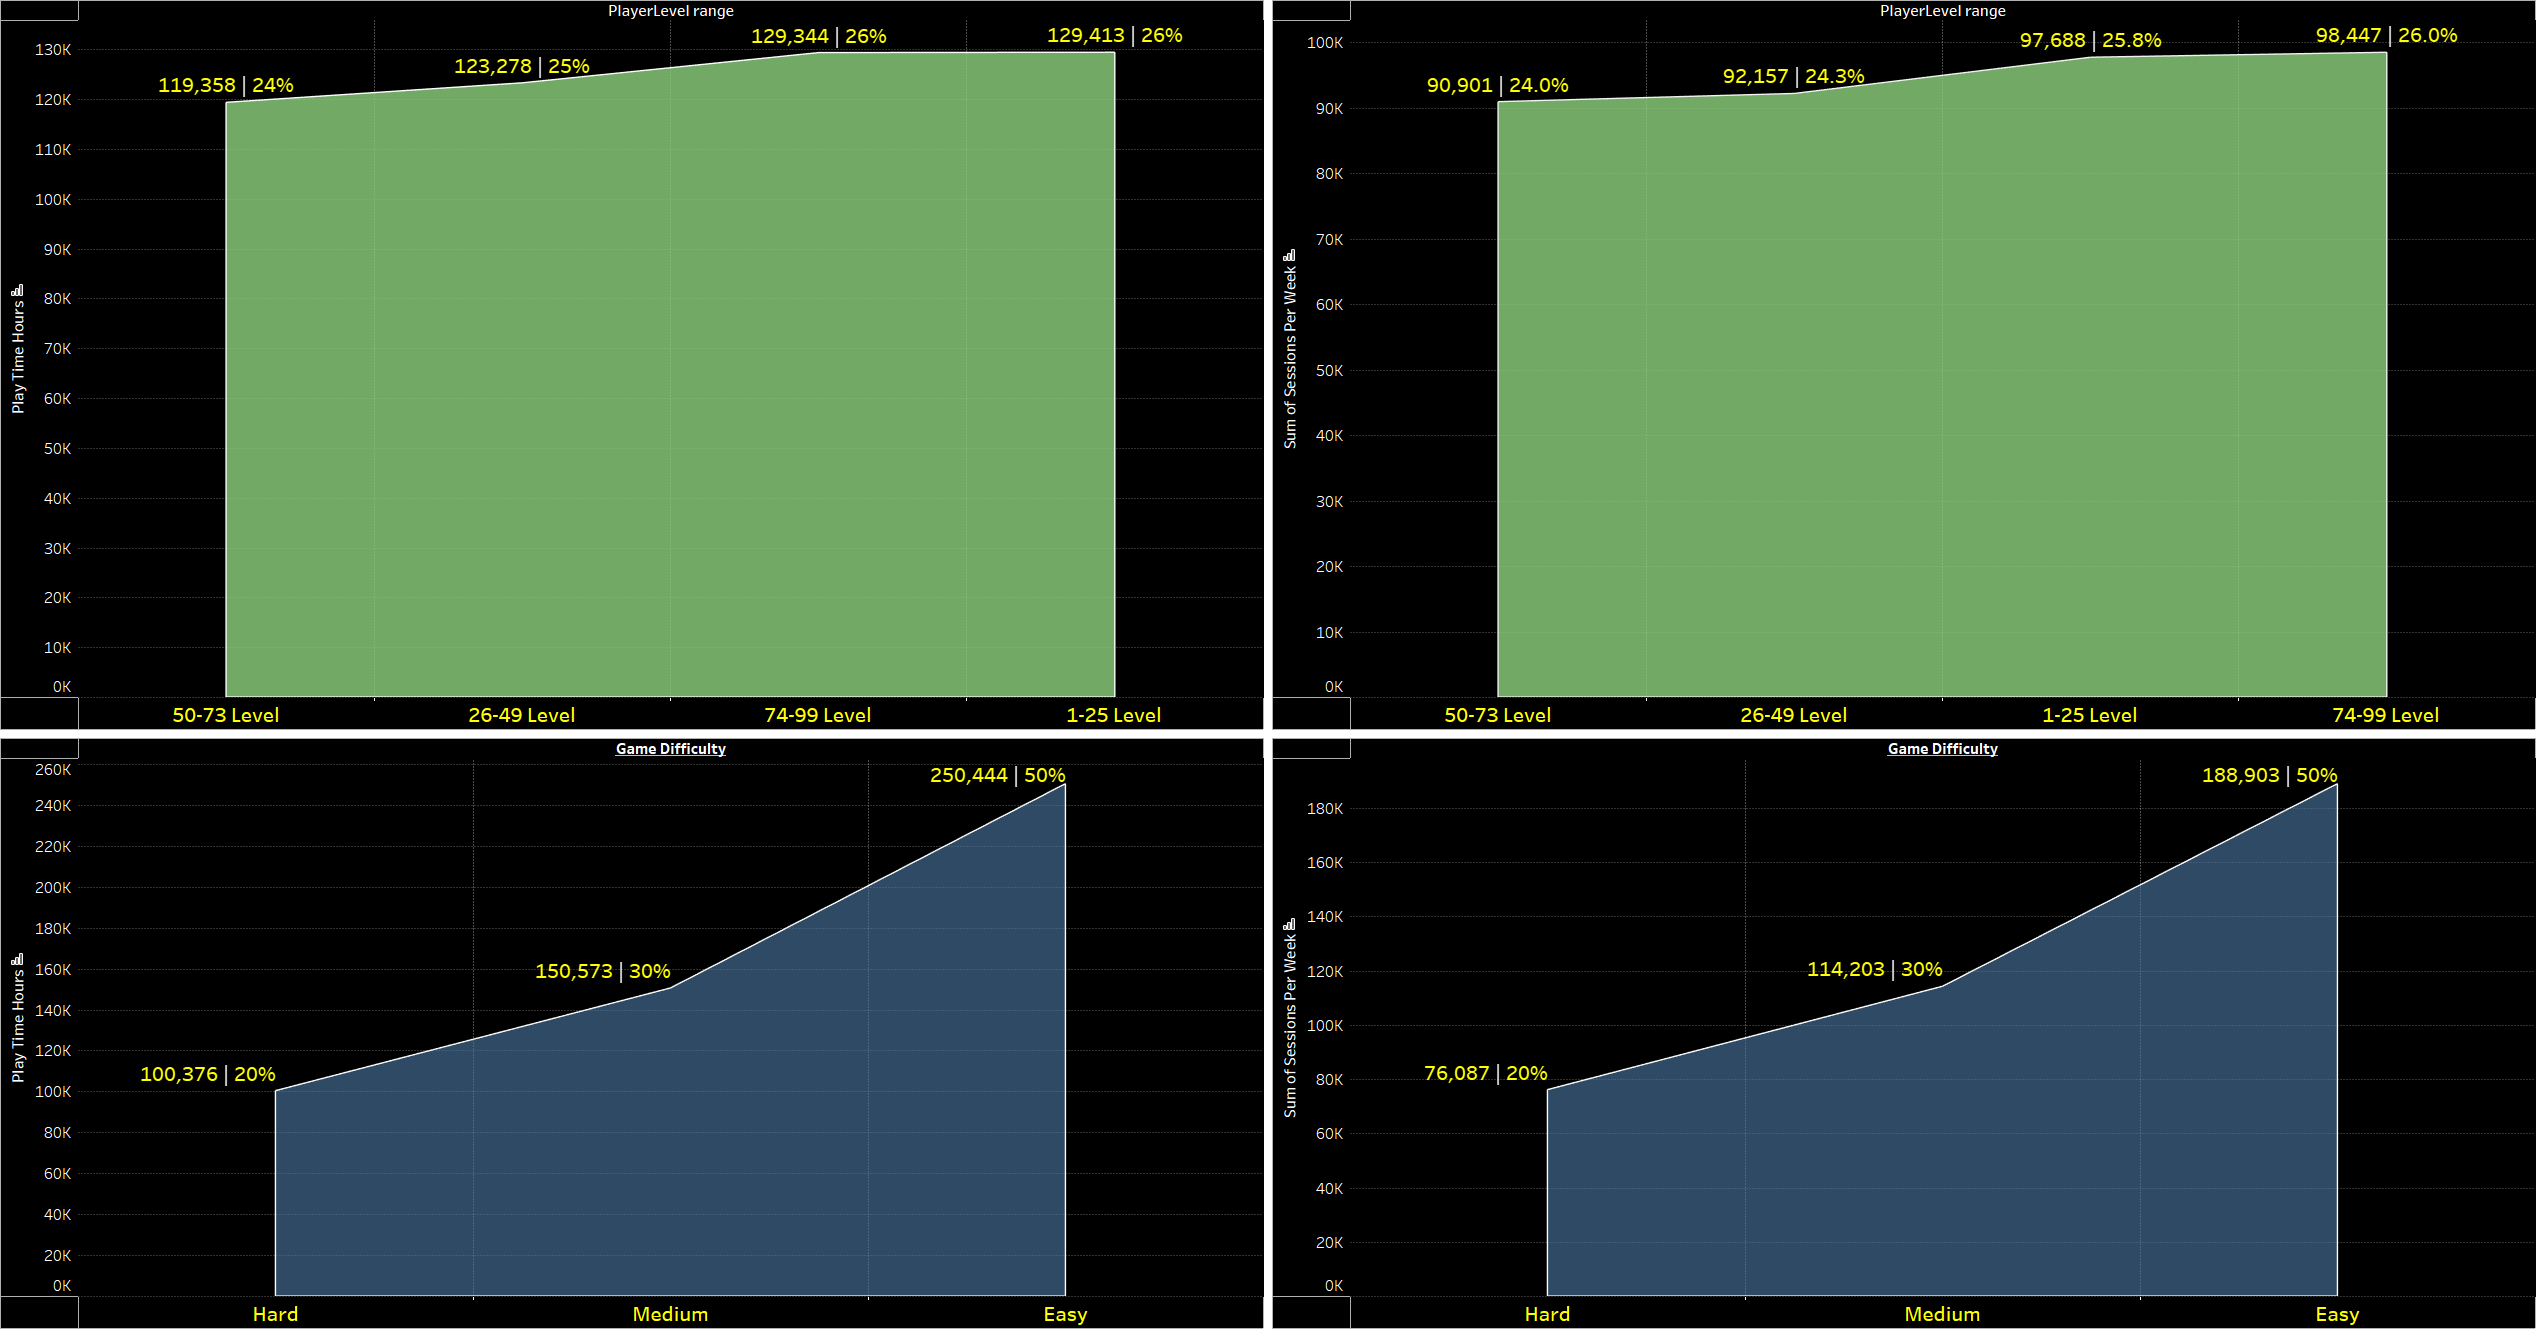

Layout of this report page (visuals, bound fields, positions):
{"tool":"tableau","page":{"name":"PlayerLevel_Difficulty","canvas":[1000,1000],"units":"permille","ordinal":4},"visuals":[{"type":"worksheet","title":"PlayerLevel&HoursPlayed","mark":"Area","rows":["PlayTimeHours"],"cols":["PlayerLevel_range"],"box":[3.5,6.5,496.5,544.6]},{"type":"worksheet","title":"PlayerLevel&WeeklySessions","mark":"Area","rows":["SessionsPerWeek"],"cols":["PlayerLevel_range"],"box":[500,6.5,496.5,544.6]},{"type":"worksheet","title":"Difficulty_Hours","mark":"Area","rows":["PlayTimeHours"],"cols":["GameDifficulty"],"box":[3.5,551.1,496.5,442.4]},{"type":"worksheet","title":"Difficulty_SessionWeeks","mark":"Area","rows":["SessionsPerWeek"],"cols":["GameDifficulty"],"box":[500,551.1,496.5,442.4]}]}

Visuals, with their boxes on the dashboard's canvas, which has no fixed pixel size, in thousandths of its width and height (x1, y1, x2, y2). These are canvas units, not pixel positions in the 2537x1329 screenshot, which may show the page scaled, cropped or inside an application window:
"PlayerLevel&HoursPlayed" worksheet (Area marks): Rect(4, 6, 500, 551)
"PlayerLevel&WeeklySessions" worksheet (Area marks): Rect(500, 6, 996, 551)
"Difficulty_Hours" worksheet (Area marks): Rect(4, 551, 500, 994)
"Difficulty_SessionWeeks" worksheet (Area marks): Rect(500, 551, 996, 994)
